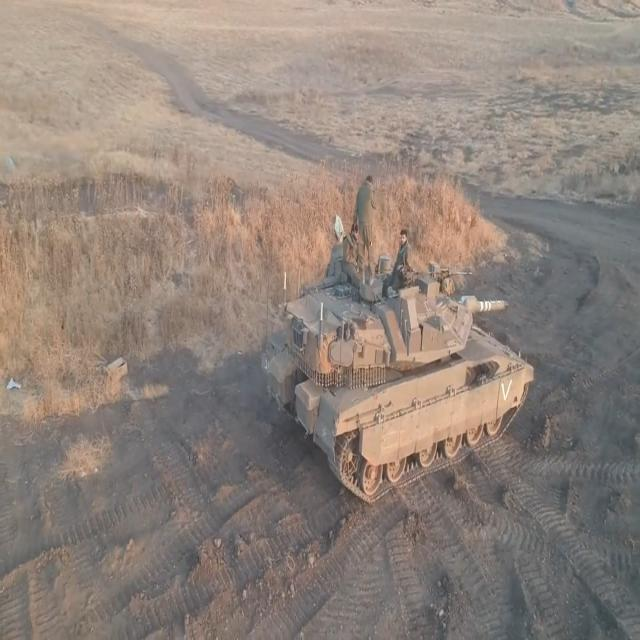tank: (257, 260, 542, 491)
